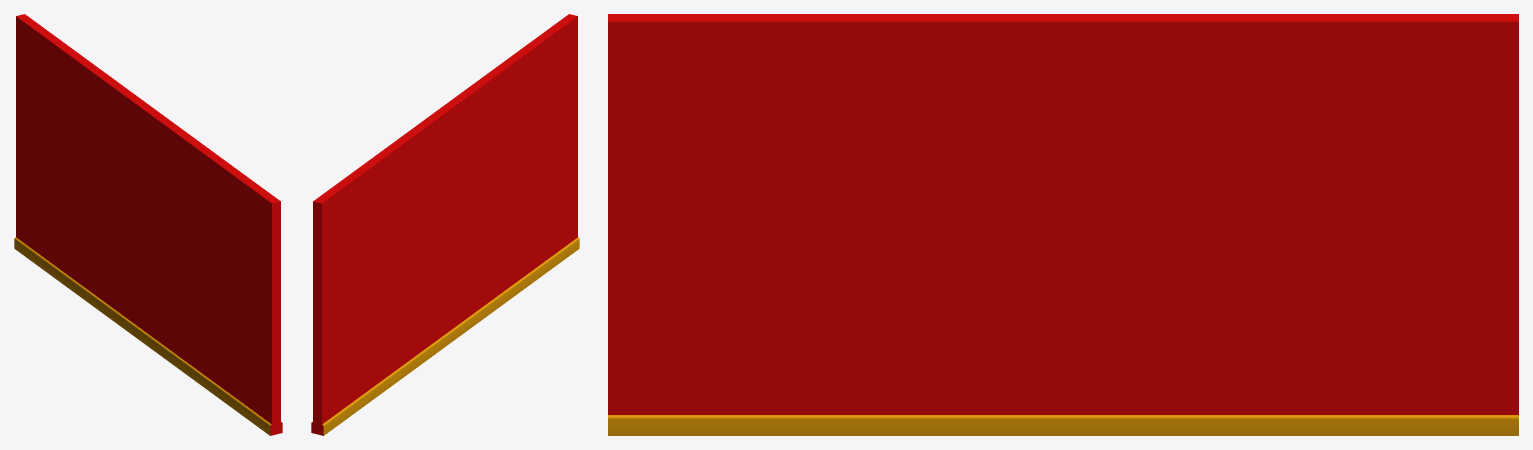
The model's file is Wall_00 1.fbx.
The picture shows the model from 3 angles, left to right: view 1: azimuth 30°, elevation 25°; view 2: azimuth 150°, elevation 25°; view 3: azimuth 270°, elevation 25°; orthographic projection. The views are drawn at different scales.
Parts seen in each view (by area): view 1: Wall_00; view 2: Wall_00; view 3: Wall_00.
Boxes of the visible parts, x1,y1,x2,y2 form: Wall_00: (14, 14, 282, 435); Wall_00: (311, 14, 579, 435); Wall_00: (608, 14, 1518, 435).
Bounding box in the file's own units: 282 × 5000 × 10000.
